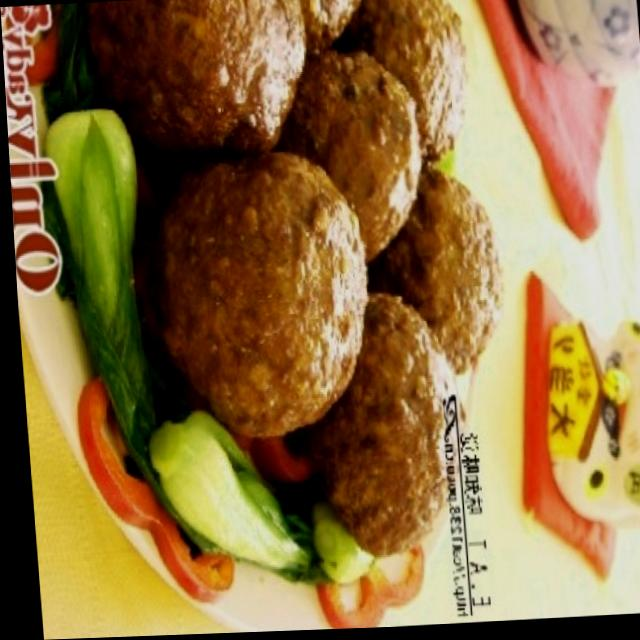猪肉菜式: (20, 0, 572, 621)
